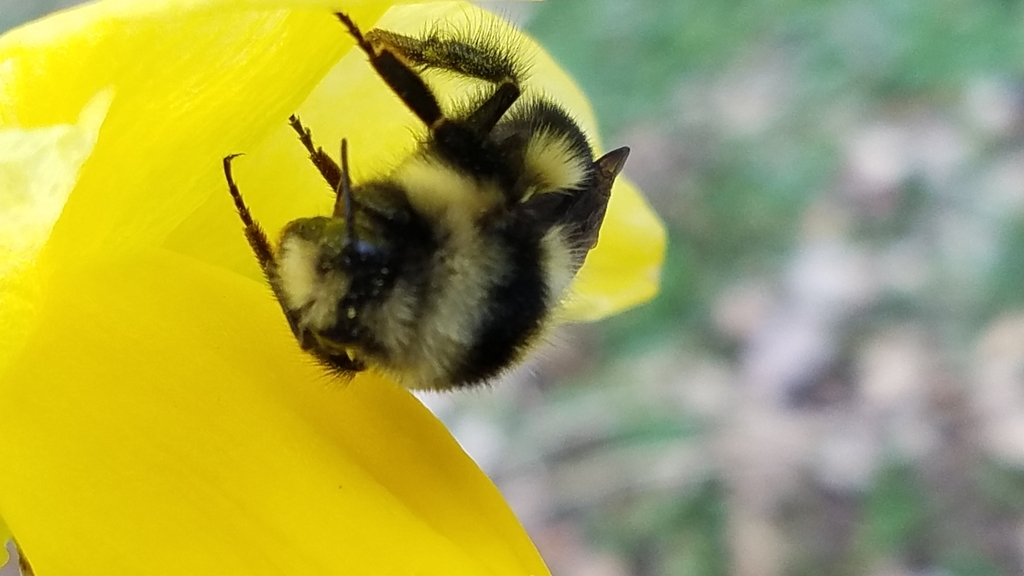bumblebee: (222, 10, 635, 396)
